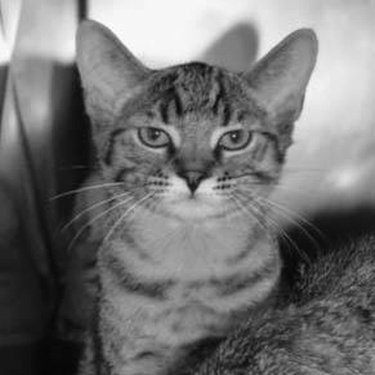cat: (61, 11, 368, 369)
